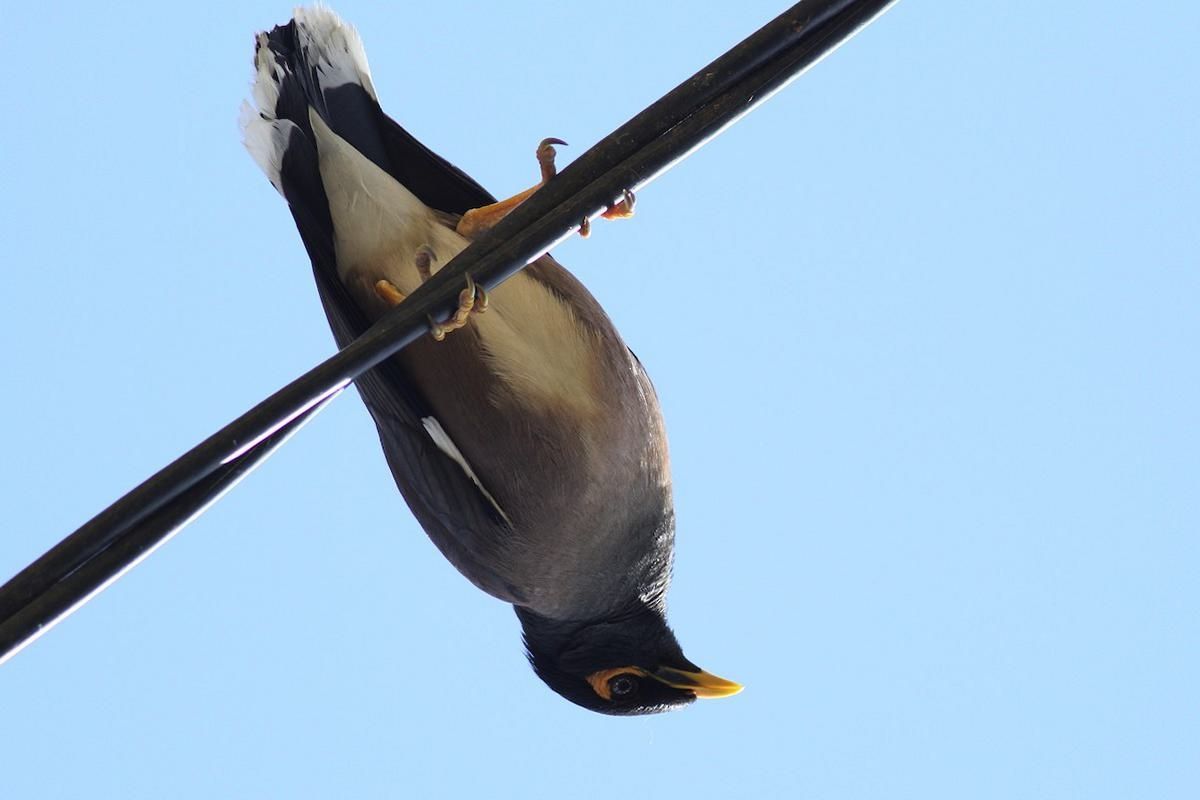myna: (216, 15, 765, 727)
